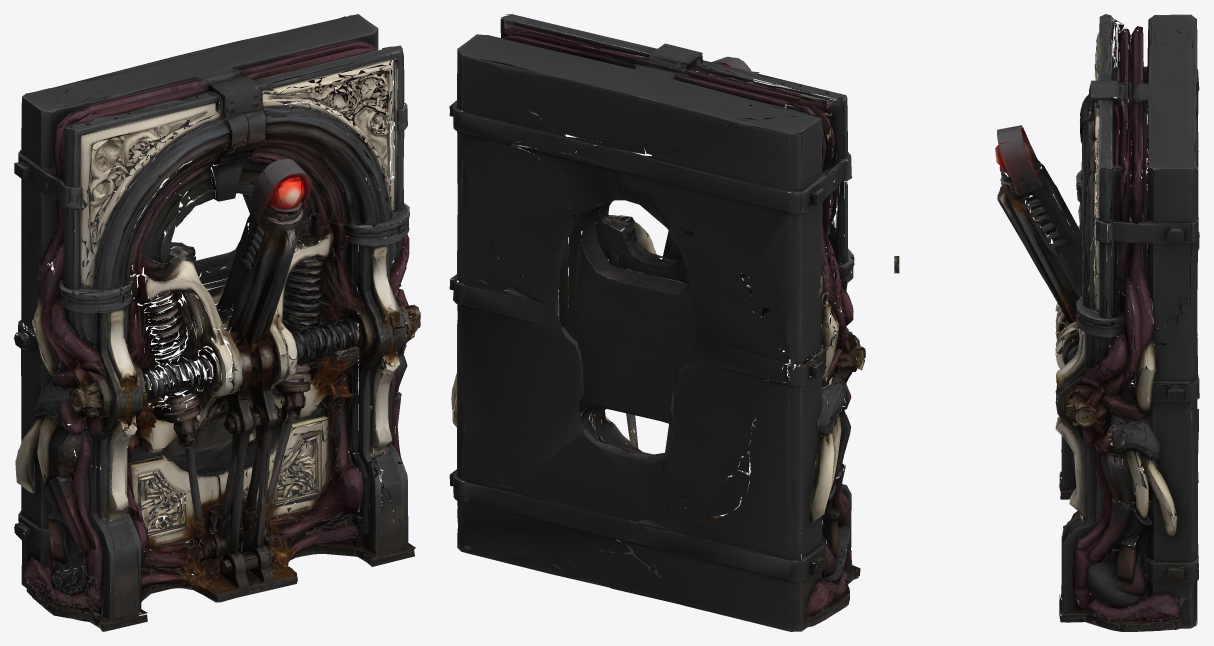
The model's file is vesper_turned_execution_interlock.glb.
3 views of the same model, side by side, from view 1: azimuth 30°, elevation 25°; view 2: azimuth 150°, elevation 25°; view 3: azimuth 270°, elevation 25° (orthographic). The views are drawn at different scales.
Parts seen in each view (by area): view 1: node_0; view 2: node_0; view 3: node_0.
Part boxes in pixels (<box>): node_0: <box>14,14,420,631</box>; node_0: <box>449,14,865,631</box>; node_0: <box>995,14,1199,631</box>.
Size of the model in its own units: 0.7406 by 0.9362 by 0.5598.
1 material, 1 textured.
